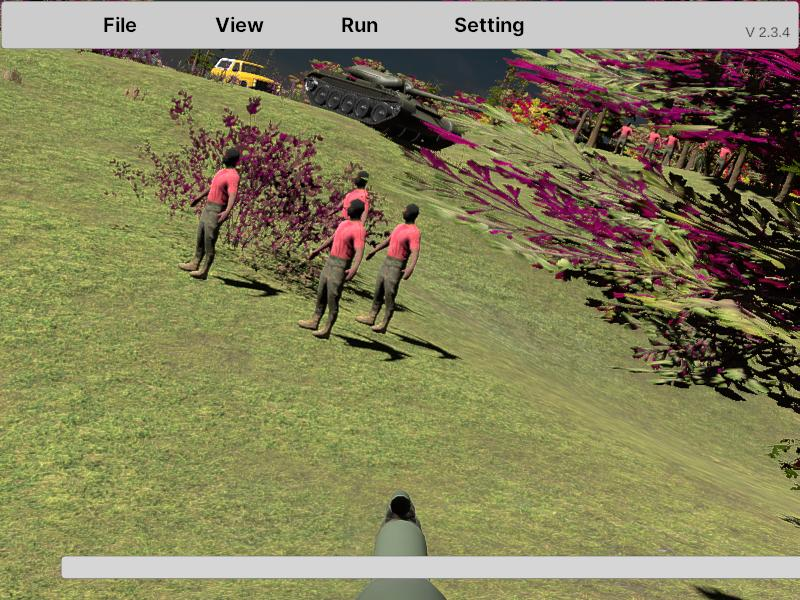Human: (299, 197, 364, 340), (357, 204, 421, 336), (179, 147, 240, 281), (612, 120, 633, 158)
Tank: (304, 61, 488, 151)
car: (209, 58, 277, 98)
